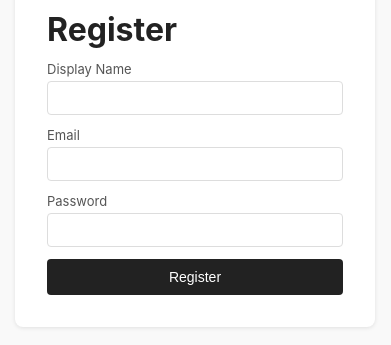
it: RegisterPage › submit button is disabled while loading
This screenshot has width=391, height=345.
// Fill out the form
Type "Test User" into the field labelled "Display Name" at (195, 98), box [47,81,343,115]
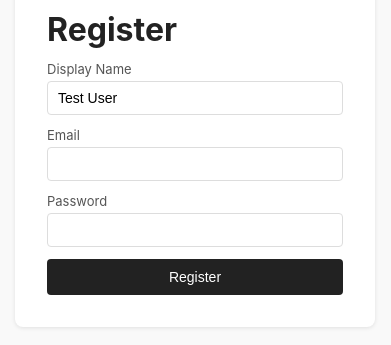
Type "test@test.com" into the field labelled "Email" at (195, 164), box [47,147,343,181]
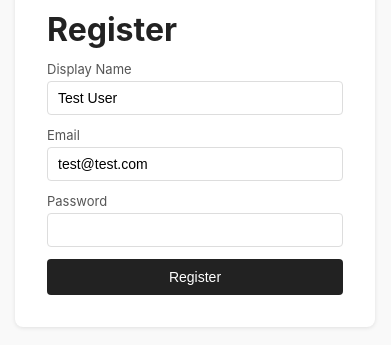
Type "password123" into the password field labelled "Password" at (195, 230), box [47,213,343,247]
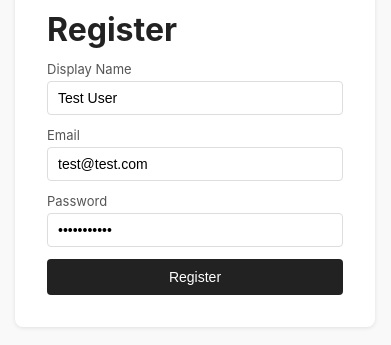
Click the button "Register" at (195, 277), box [47,259,343,295]
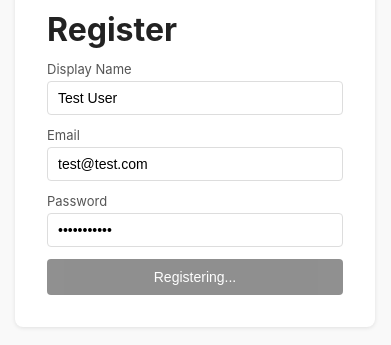
Result: the button "Registering..." is disabled at [47,259,343,295]
